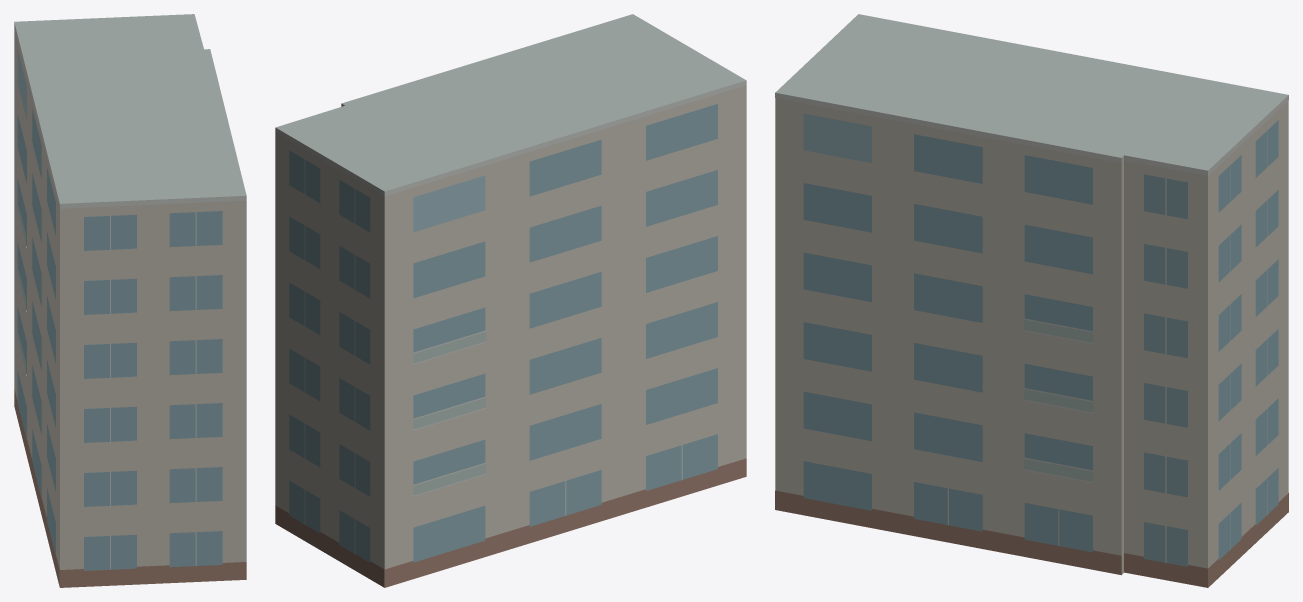
File: survey-upis-32961871.glb
3 renders of one model, left to right at view 1: azimuth 30°, elevation 25°; view 2: azimuth 150°, elevation 25°; view 3: azimuth 270°, elevation 25°, orthographic. The views are drawn at different scales.
Visible parts, largest first — view 1: survey-upis-32961871.tmp; view 2: survey-upis-32961871.tmp; view 3: survey-upis-32961871.tmp.
Part boxes in pixels (bbox=[...]): survey-upis-32961871.tmp: bbox=[14, 14, 246, 587]; survey-upis-32961871.tmp: bbox=[275, 14, 746, 587]; survey-upis-32961871.tmp: bbox=[775, 14, 1288, 587].
Size of the model in its own units: 15.64 by 19.4 by 21.66.
